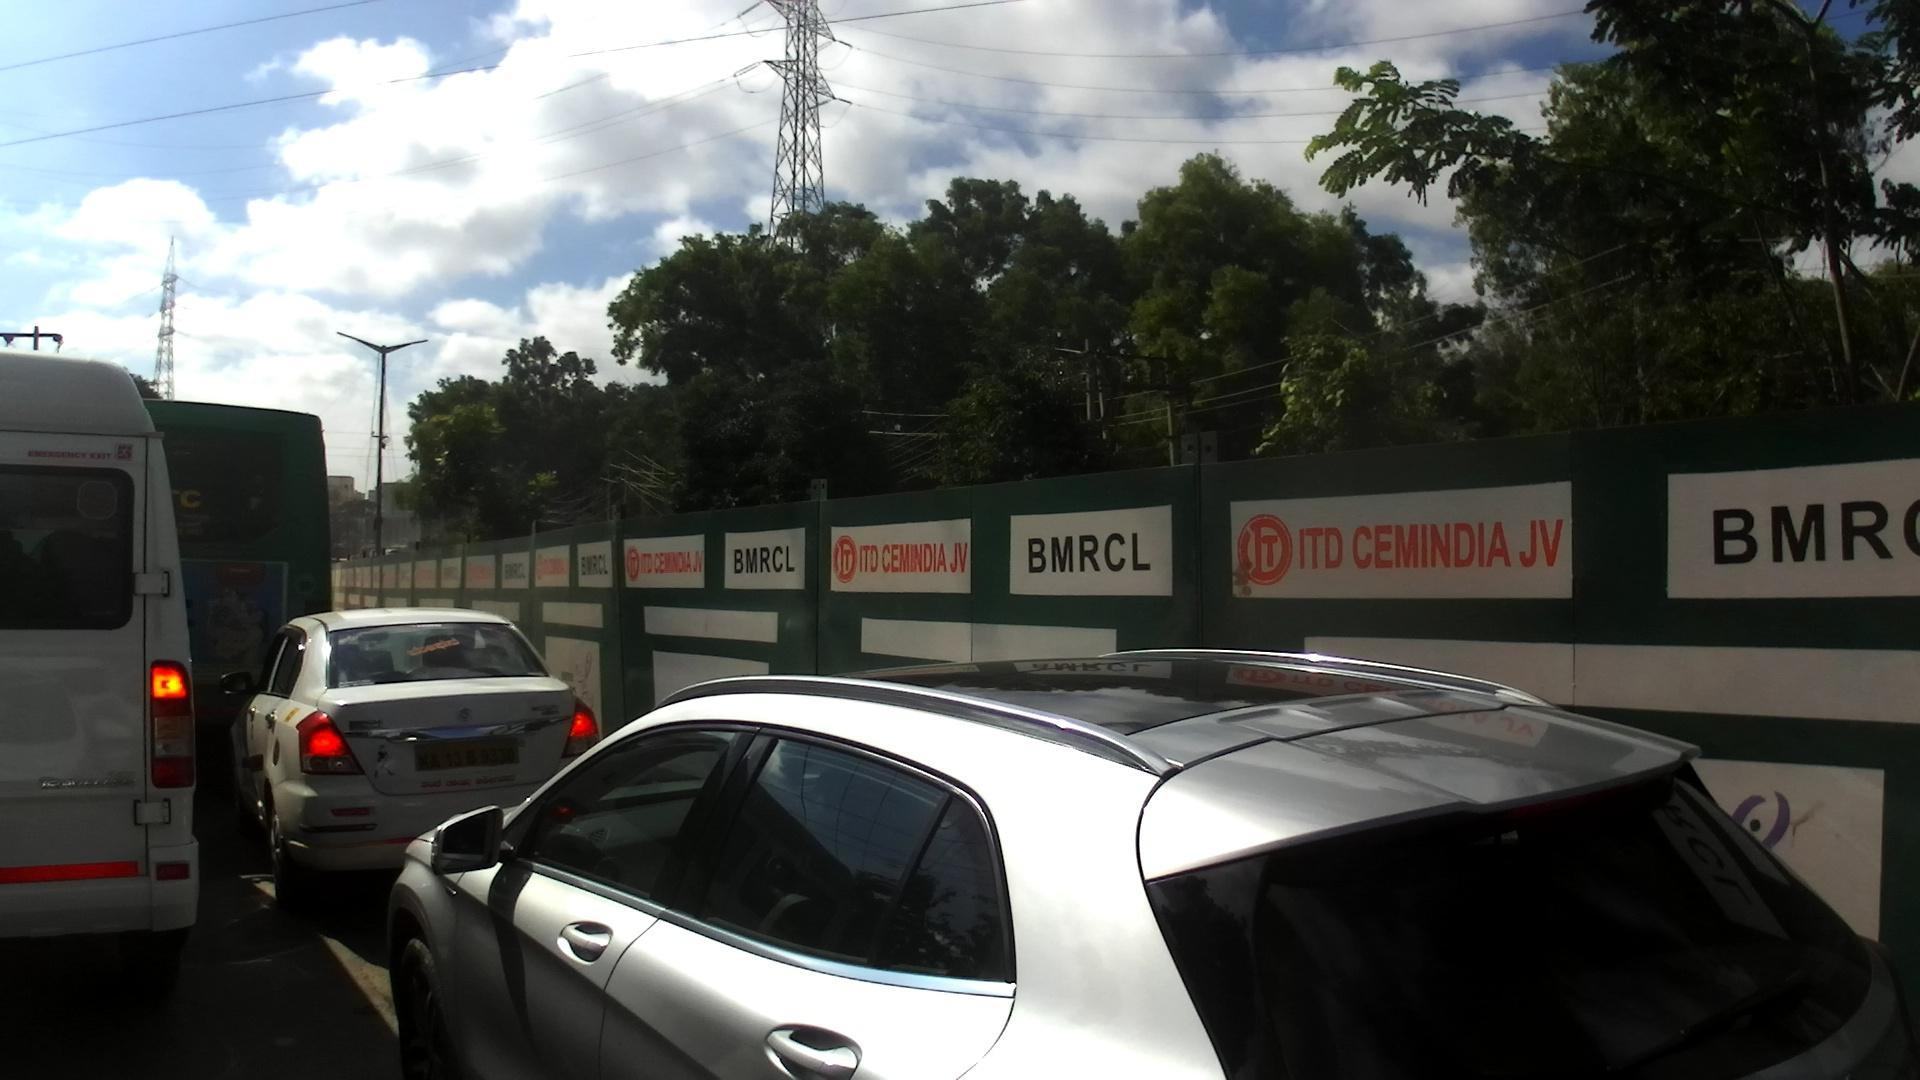off: (0, 0, 1822, 1080)
